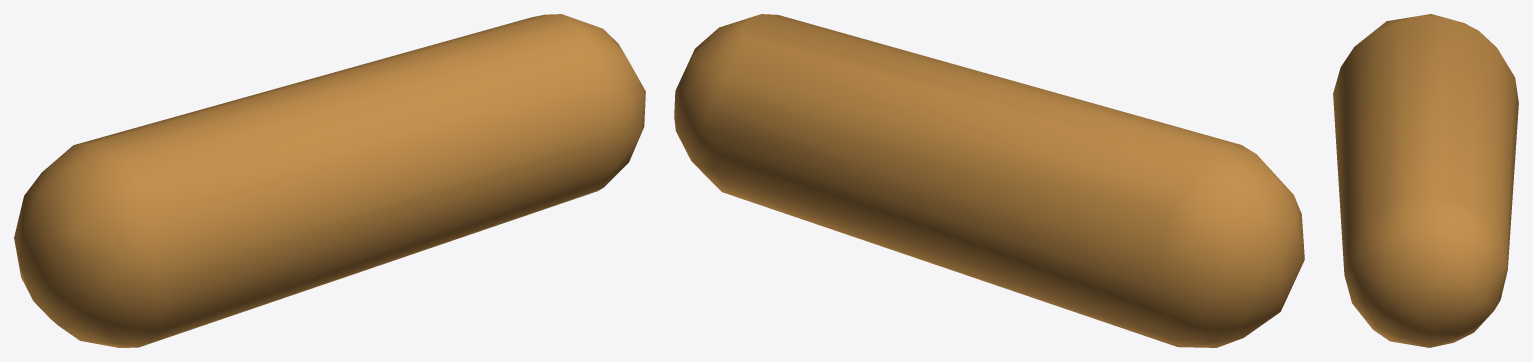
File: nua_o.glb
3 renders of one model, left to right at view 1: azimuth 30°, elevation 25°; view 2: azimuth 150°, elevation 25°; view 3: azimuth 270°, elevation 25°, orthographic. The views are drawn at different scales.
Visible parts, largest first — view 1: nua_o; view 2: nua_o; view 3: nua_o.
Part boxes in pixels (<box>): nua_o: <box>14,14,645,347</box>; nua_o: <box>674,14,1304,347</box>; nua_o: <box>1333,14,1518,347</box>.
Size of the model in its own units: 0.2241 by 0.0739 by 0.0683.
